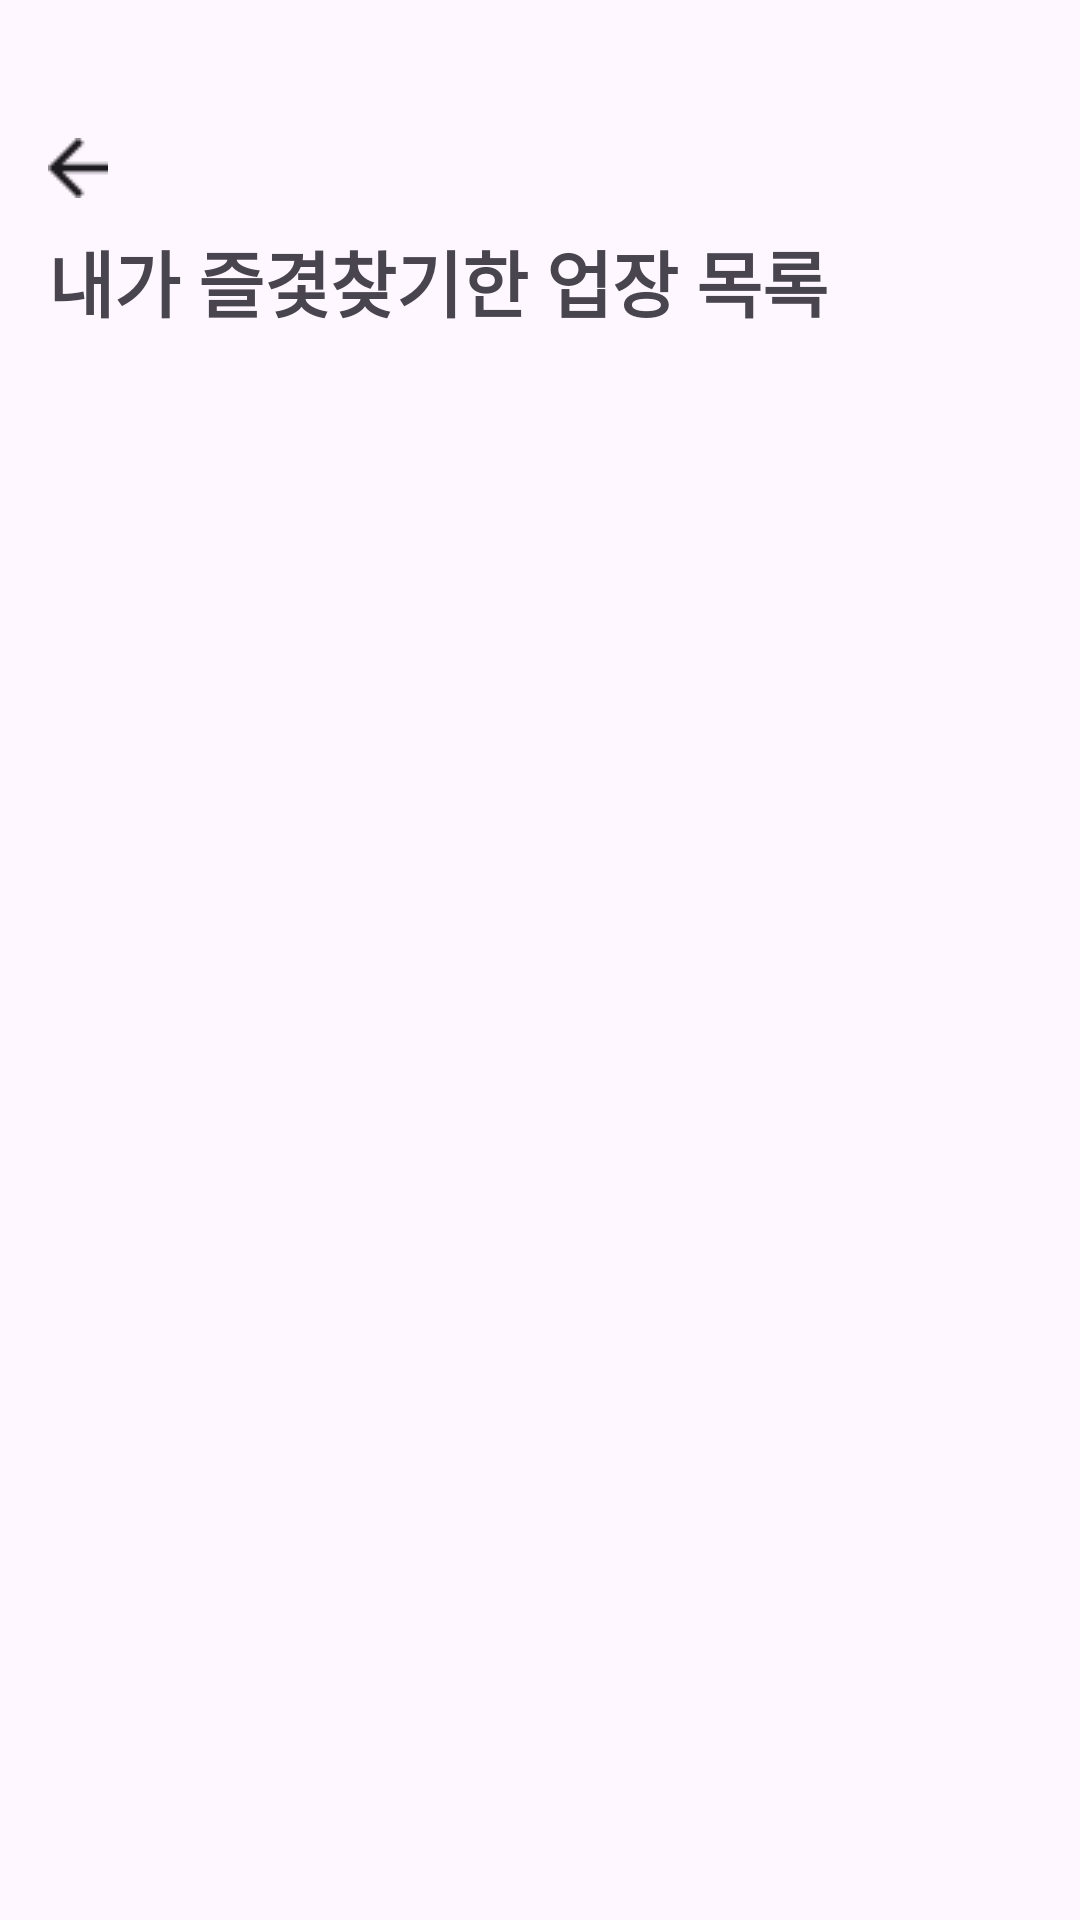

Screen size 1080 x 1920. Icon name, then its box in pixels as [x1, y1, x2, y2]:
back: [48, 138, 108, 198]
